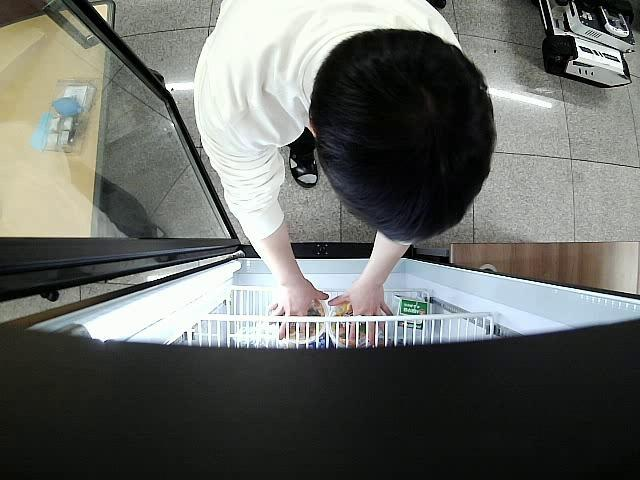09_yukGaeJang: (331, 294, 386, 345), (268, 301, 326, 342), (329, 300, 366, 346)
